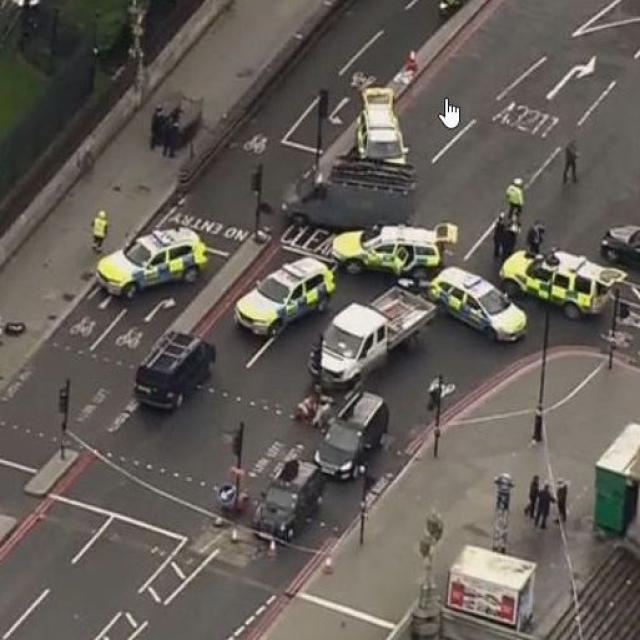traffic_incident: (283, 160, 412, 226)
